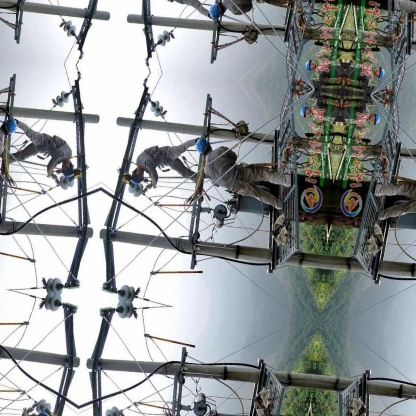blue: (192, 135, 209, 158), (129, 169, 143, 186), (299, 106, 308, 121)
